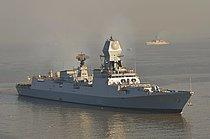MIL_Ship: (14, 33, 195, 118), (141, 36, 172, 46)
